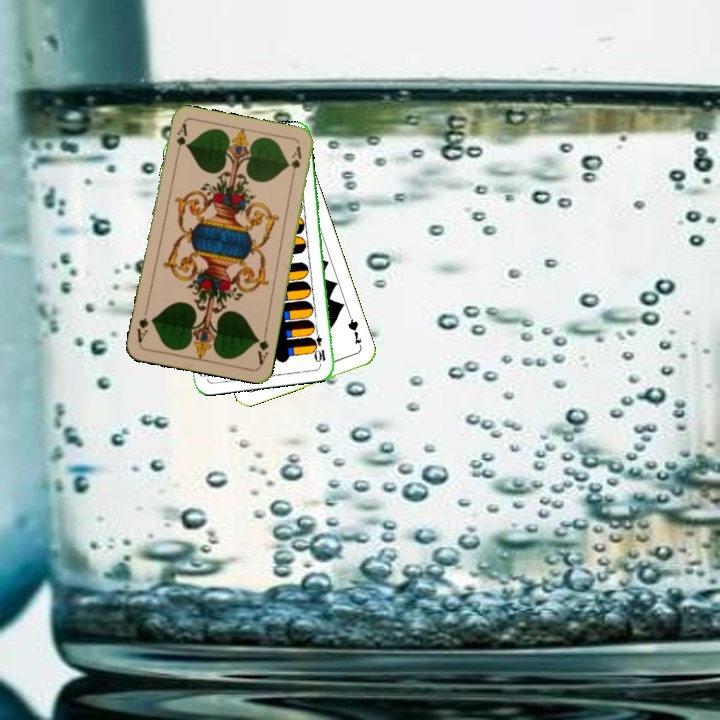E10: (310, 324, 328, 365)
G7: (344, 312, 364, 352)
GA: (253, 327, 272, 367), (172, 120, 189, 160)
